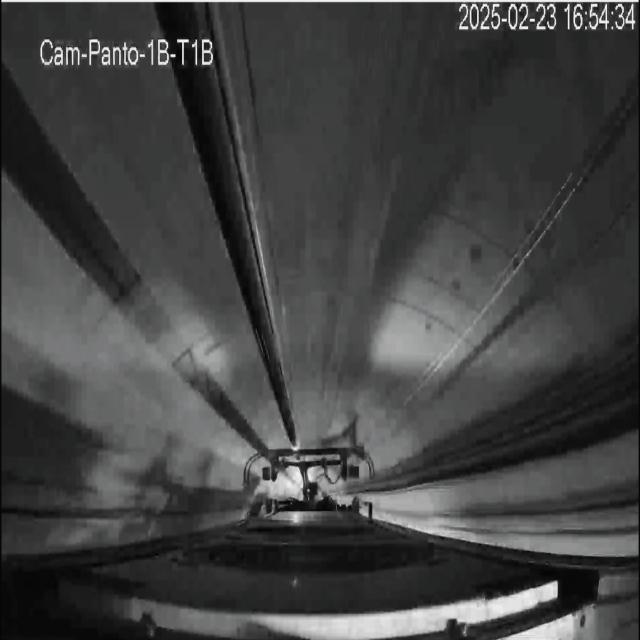Camera Stamp: (40, 34, 219, 69)
Date Stamp: (459, 3, 637, 33)
Sparks: (286, 433, 302, 457)
